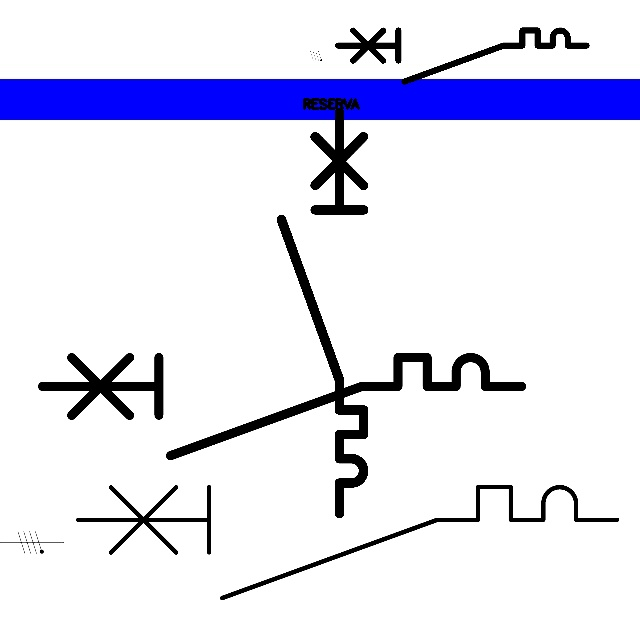interruptor_termomagnetico: (64, 473, 631, 612), (30, 345, 534, 468), (271, 102, 374, 524), (331, 24, 592, 88)
